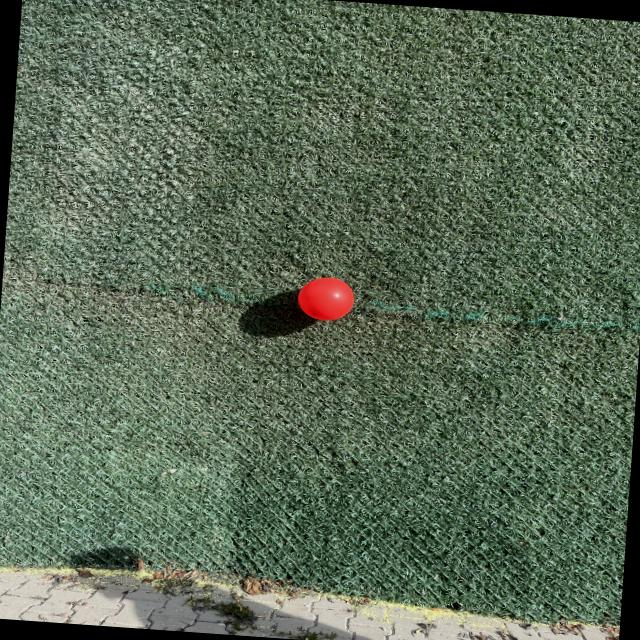balloon: (298, 277, 354, 320)
